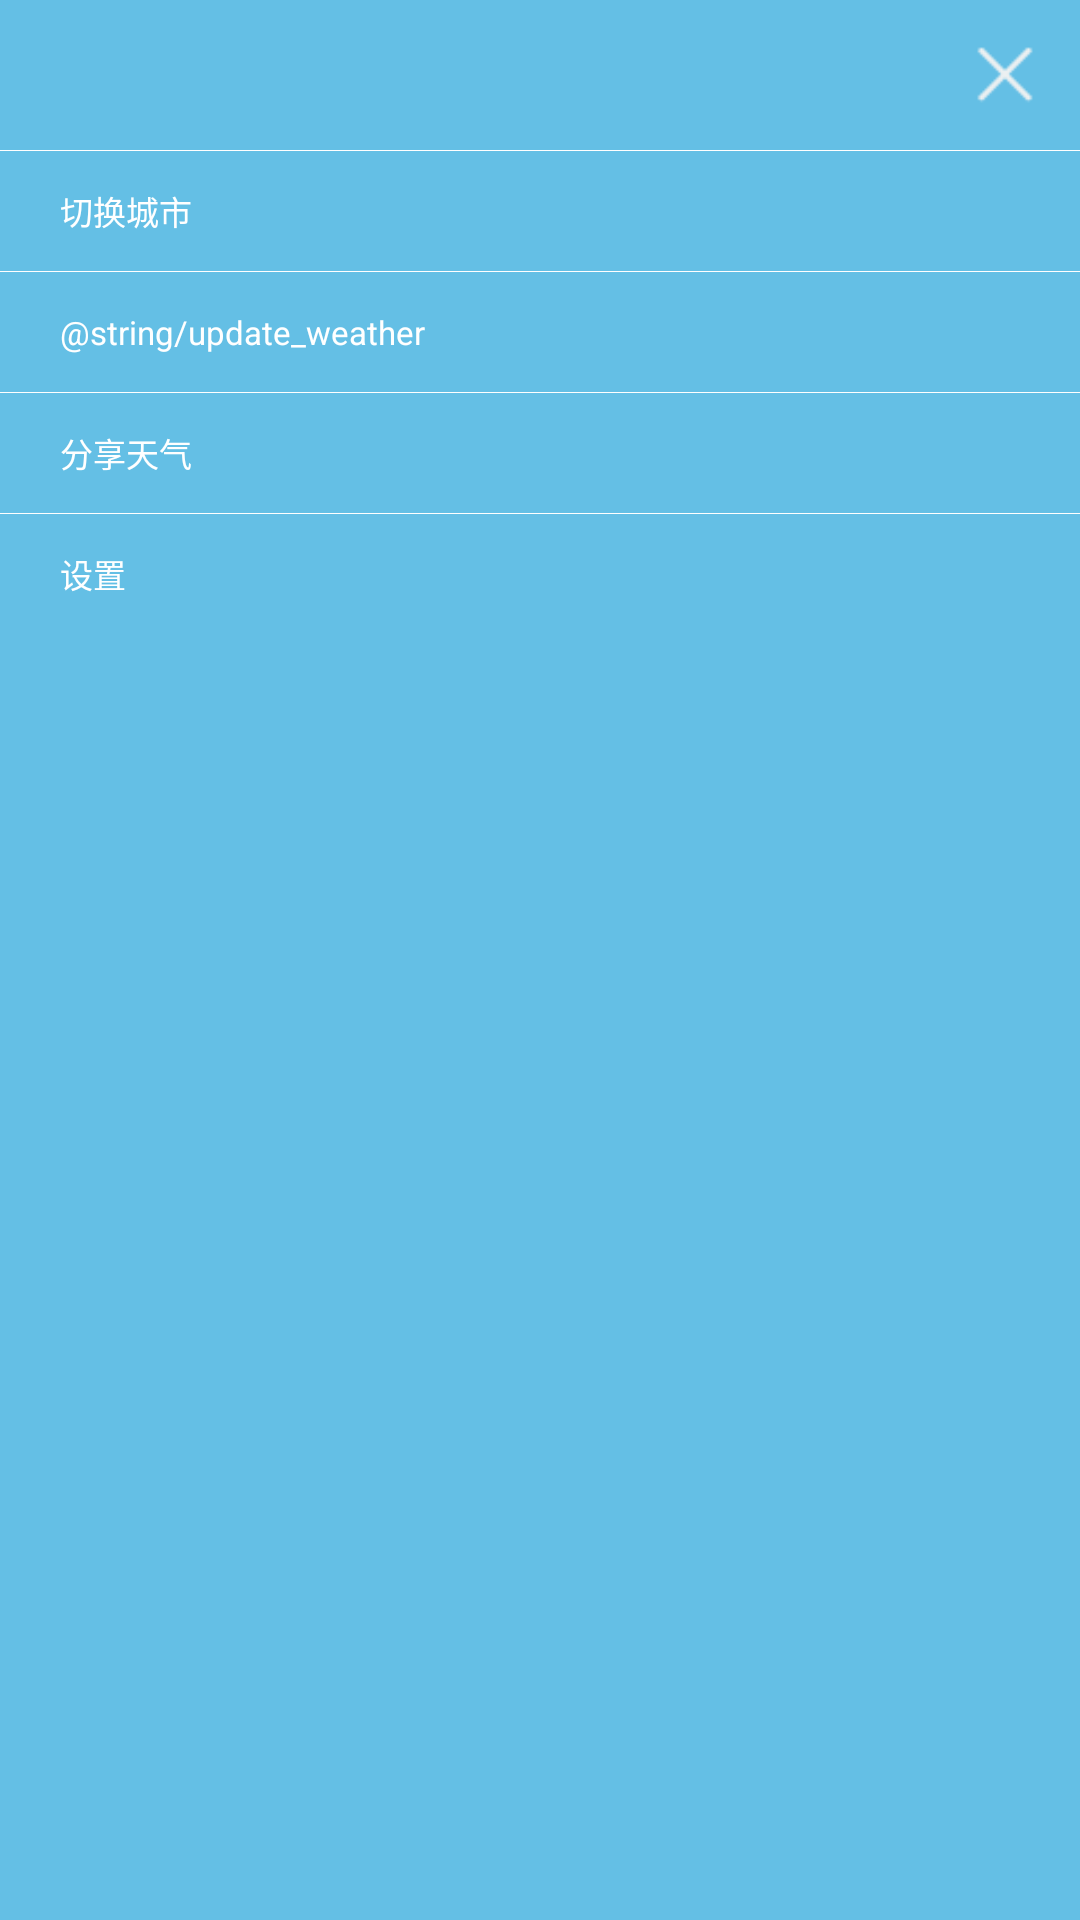

Icon bounding boxes for this 1080px x 1920px phone screenshot, format (x1, y1, x2, y2):
close: (977, 47, 1033, 101)
